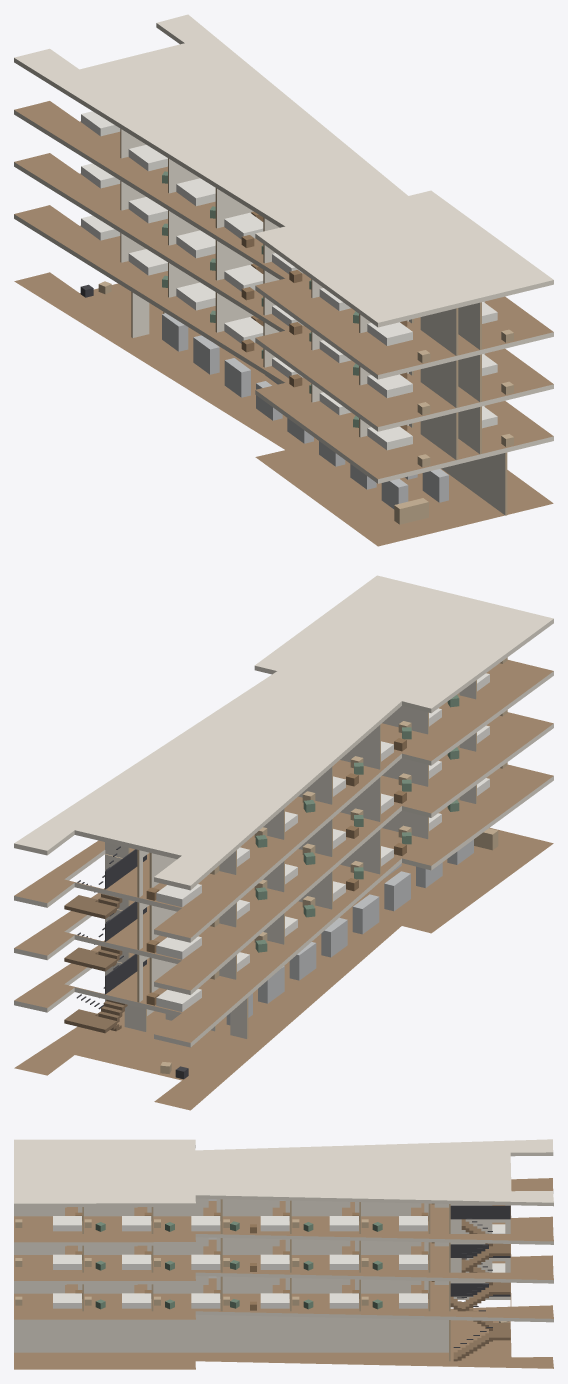
File: interior.glb
3 views of the same model, one above another, from view 1: azimuth 30°, elevation 25°; view 2: azimuth 150°, elevation 25°; view 3: azimuth 270°, elevation 25° (orthographic). The views are drawn at different scales.
Visible parts, largest first — view 1: slabs, partitions, coarse-s0, coarse-s3, coarse-s2, coarse-s1; view 2: slabs, partitions, coarse-s0, stair, coarse-s3, coarse-s1, coarse-s2; view 3: slabs, partitions, stair, coarse-s1, coarse-s2, coarse-s3.
Part boxes in pixels (<box>): slabs: <box>14,14,553,546</box>; partitions: <box>120,128,507,515</box>; coarse-s0: <box>80,281,448,524</box>; coarse-s3: <box>81,111,513,363</box>; coarse-s2: <box>81,163,513,415</box>; coarse-s1: <box>81,215,513,467</box>; slabs: <box>14,575,553,1110</box>; partitions: <box>105,680,476,1038</box>; coarse-s0: <box>160,828,498,1079</box>; stair: <box>64,846,146,1033</box>; coarse-s3: <box>146,657,507,907</box>; coarse-s1: <box>146,762,507,1011</box>; coarse-s2: <box>146,710,507,959</box>; slabs: <box>14,1139,553,1369</box>; partitions: <box>14,1198,510,1361</box>; stair: <box>450,1205,510,1361</box>; coarse-s1: <box>15,1263,505,1310</box>; coarse-s2: <box>15,1224,505,1271</box>; coarse-s3: <box>15,1199,434,1233</box>.
Bounding box in the file's own units: 10.43 × 12.59 × 37.04.
